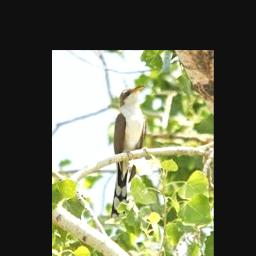Cuckoo: (111, 86, 147, 221)
